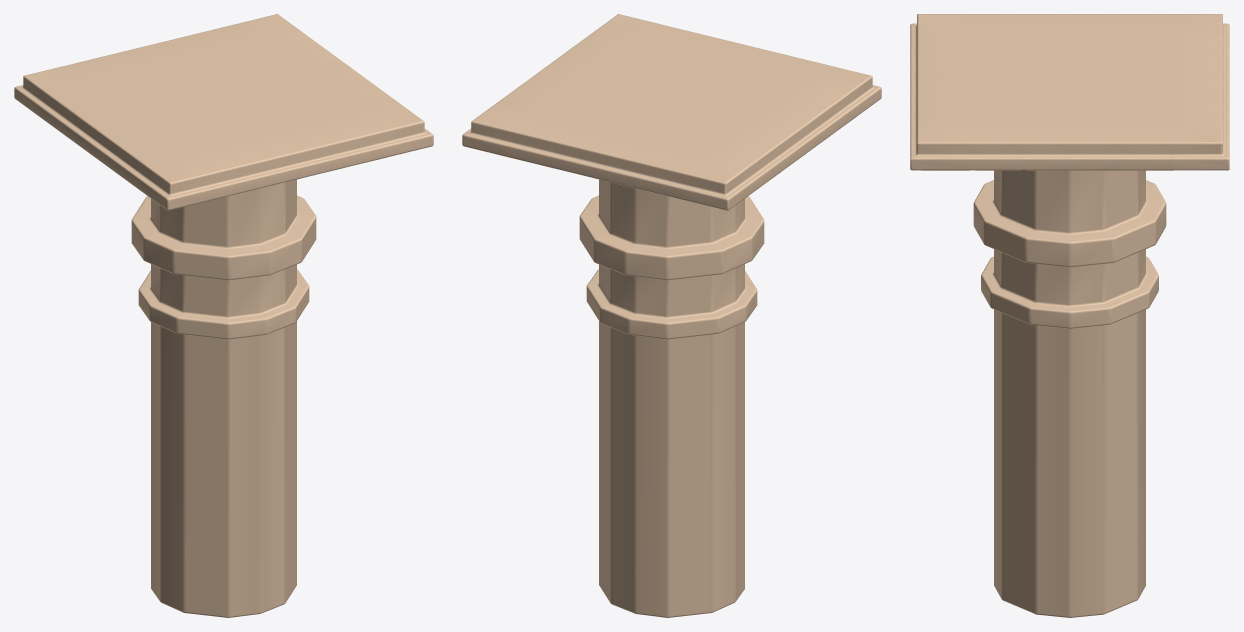
Rendered from P_Tile_Column.fbx.
3 views of the same model, side by side, from view 1: azimuth 30°, elevation 25°; view 2: azimuth 150°, elevation 25°; view 3: azimuth 270°, elevation 25° (orthographic). The views are drawn at different scales.
Visible parts, largest first — view 1: pillier; view 2: pillier; view 3: pillier.
Part boxes in pixels (x1,y1,x2,y2): pillier: (14, 14, 433, 617); pillier: (462, 14, 881, 617); pillier: (910, 14, 1229, 617).
Size of the model in its own units: 627 by 1099 by 627.
